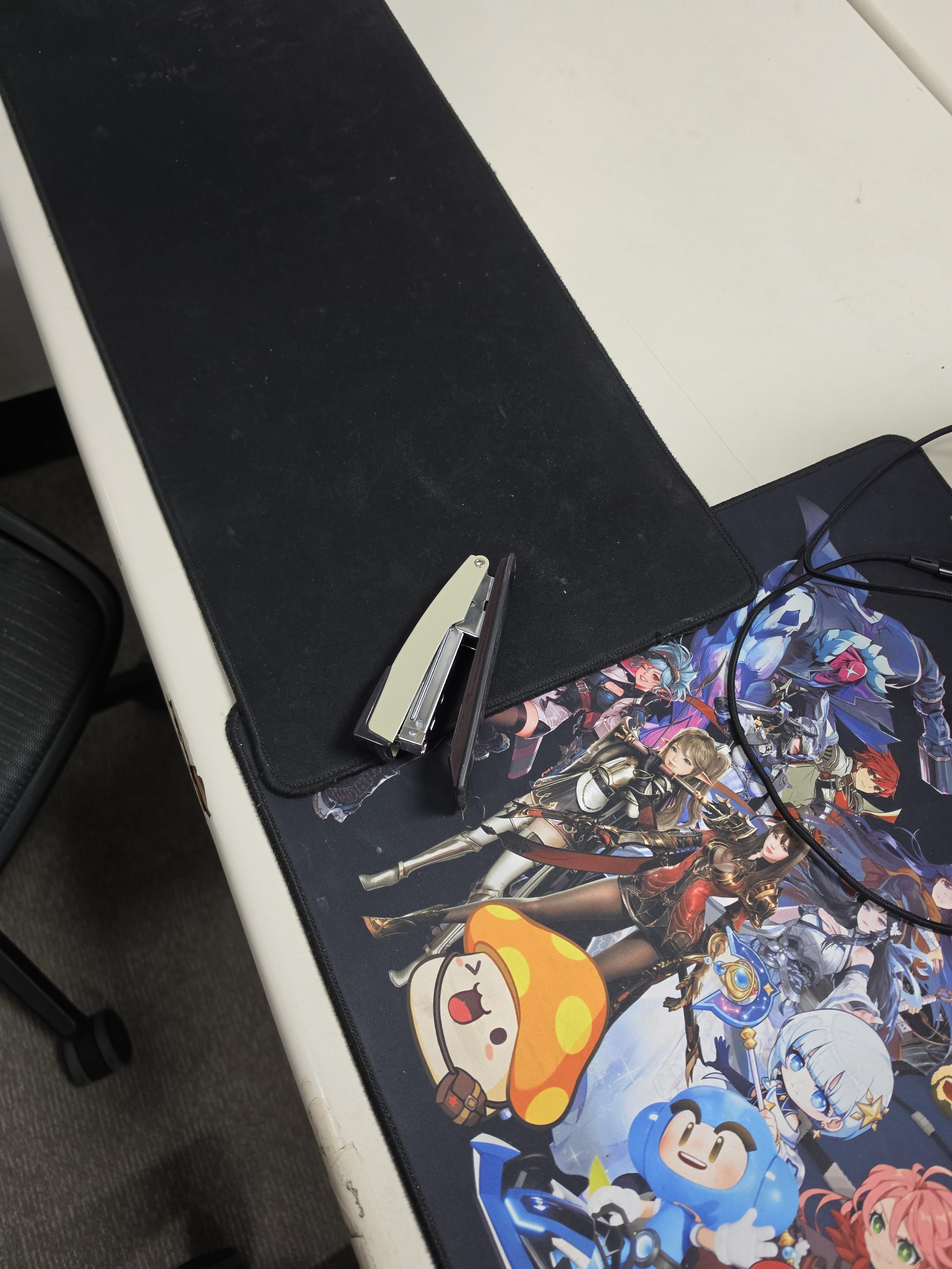stapler: (353, 551, 518, 812)
